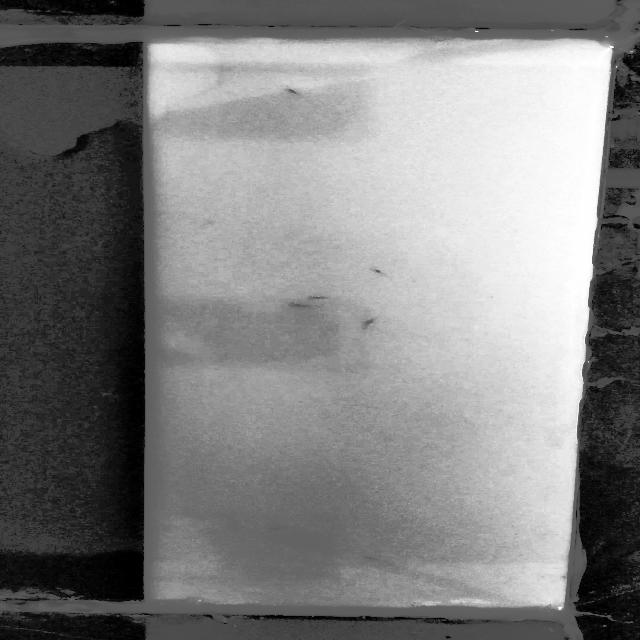shrimp: (283, 300, 318, 311), (366, 265, 393, 279), (359, 314, 384, 329), (264, 523, 295, 534), (296, 294, 338, 300), (283, 87, 312, 95), (366, 556, 383, 562)
